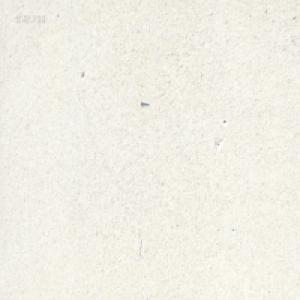Nail: (139, 99, 149, 105)
